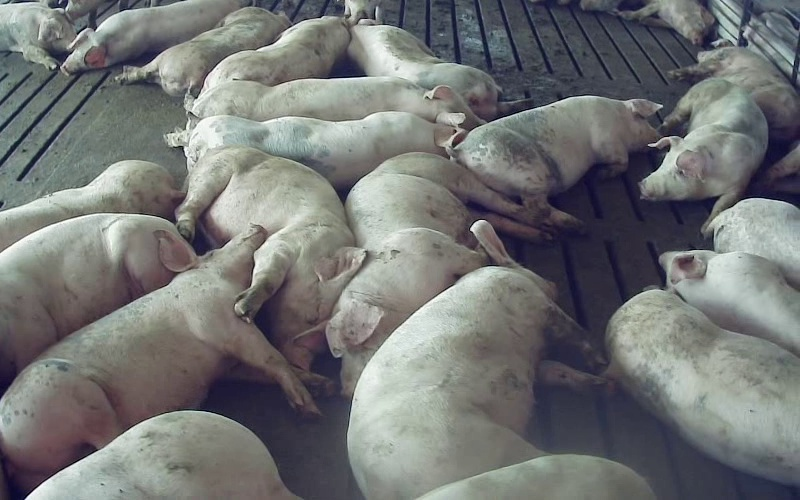pig: (0, 226, 325, 490), (348, 221, 605, 499), (176, 147, 364, 369), (605, 290, 799, 486), (0, 214, 174, 391), (448, 96, 660, 230), (164, 111, 461, 189), (639, 78, 767, 232), (347, 20, 531, 120), (0, 160, 184, 251), (116, 7, 290, 95), (188, 76, 482, 128), (659, 250, 799, 356), (669, 39, 799, 140), (202, 16, 350, 91), (707, 198, 799, 290), (618, 0, 714, 44)
